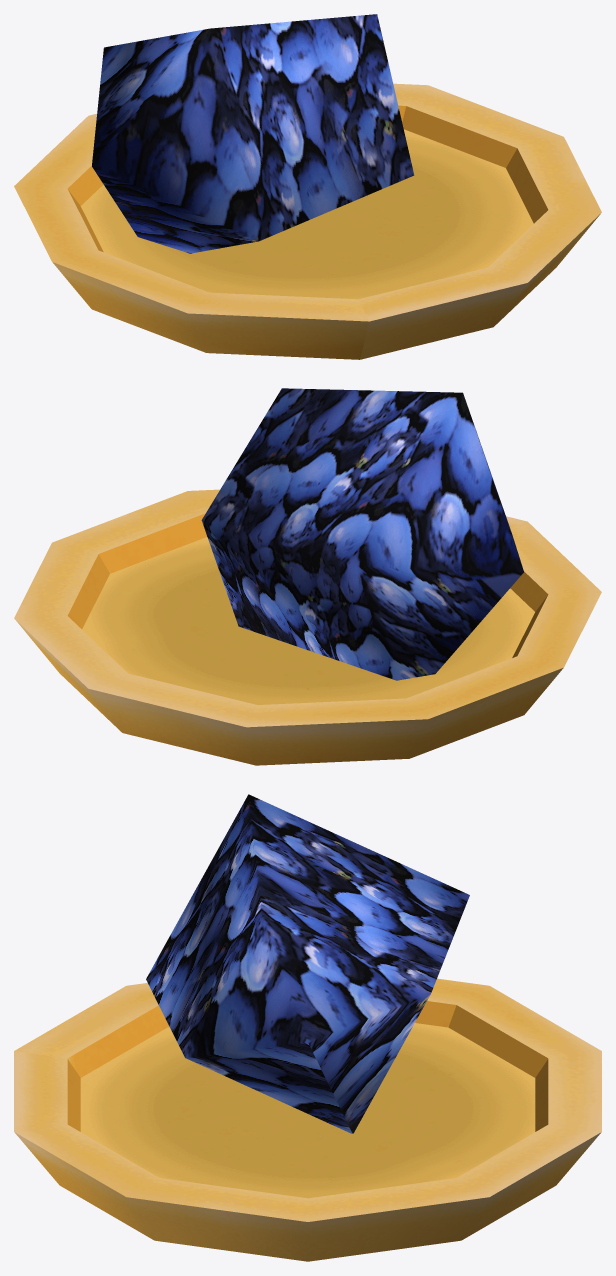
Rendered from grape_2.fbx.
3 views of the same model, one above another, from view 1: azimuth 30°, elevation 25°; view 2: azimuth 150°, elevation 25°; view 3: azimuth 270°, elevation 25° (orthographic). The views are drawn at different scales.
Visible parts, largest first — view 1: Object005; view 2: Object005; view 3: Object005.
Part boxes in pixels (x1,y1,x2,y2): Object005: [14, 14, 601, 359]; Object005: [14, 388, 601, 765]; Object005: [14, 794, 601, 1261].
Size of the model in its own units: 20.99 by 10.96 by 19.96.
